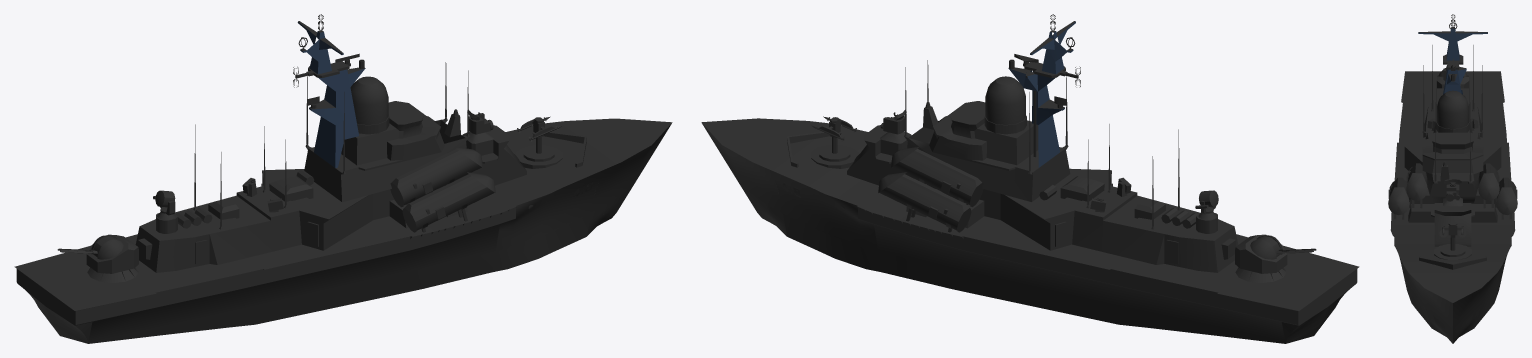
The model's file is battleship2.FBX.
3 views of the same model, side by side, from view 1: azimuth 30°, elevation 25°; view 2: azimuth 150°, elevation 25°; view 3: azimuth 270°, elevation 25° (orthographic). The views are drawn at different scales.
Parts seen in each view (by area): view 1: SOVRA, hull0, deck, subhull, STYX, ad, BAND-STAND, guntower, ap, STILOS, line; view 2: SOVRA, hull0, deck, subhull, STYX, BAND-STAND, guntower, ap, STILOS, line, as, ad; view 3: deck, SOVRA, STYX, hull0, subhull, BAND-STAND, aa, STILOS, POP-GROUP, guntower, LAN-GK, alb (+1 smaller).
Part boxes in pixels (x1,y1,x2,y2): SOVRA: [87, 14, 586, 282]; hull0: [16, 123, 671, 342]; deck: [14, 118, 672, 310]; subhull: [39, 187, 632, 343]; STYX: [389, 116, 495, 232]; ad: [303, 32, 365, 167]; BAND-STAND: [350, 76, 388, 124]; guntower: [86, 234, 138, 273]; ap: [297, 21, 341, 167]; STILOS: [194, 62, 468, 226]; line: [38, 185, 633, 343]; SOVRA: [787, 14, 1286, 282]; hull0: [702, 123, 1357, 342]; deck: [701, 118, 1359, 310]; subhull: [741, 187, 1333, 343]; STYX: [878, 116, 984, 232]; BAND-STAND: [985, 76, 1025, 124]; guntower: [1235, 234, 1287, 273]; ap: [1027, 21, 1075, 167]; STILOS: [905, 60, 1179, 226]; line: [740, 185, 1335, 343]; as: [1008, 39, 1070, 91]; ad: [1030, 70, 1062, 124]; deck: [1390, 71, 1515, 302]; SOVRA: [1400, 14, 1505, 269]; STYX: [1388, 163, 1517, 222]; hull0: [1393, 102, 1512, 329]; subhull: [1403, 272, 1502, 343]; BAND-STAND: [1437, 90, 1468, 129]; aa: [1418, 28, 1487, 93]; STILOS: [1423, 45, 1482, 180]; POP-GROUP: [1444, 179, 1461, 201]; guntower: [1437, 68, 1468, 88]; LAN-GK: [1448, 222, 1457, 250]; alb: [1418, 27, 1487, 89].
Bounding box in the file's own units: 592 × 250 × 134.
